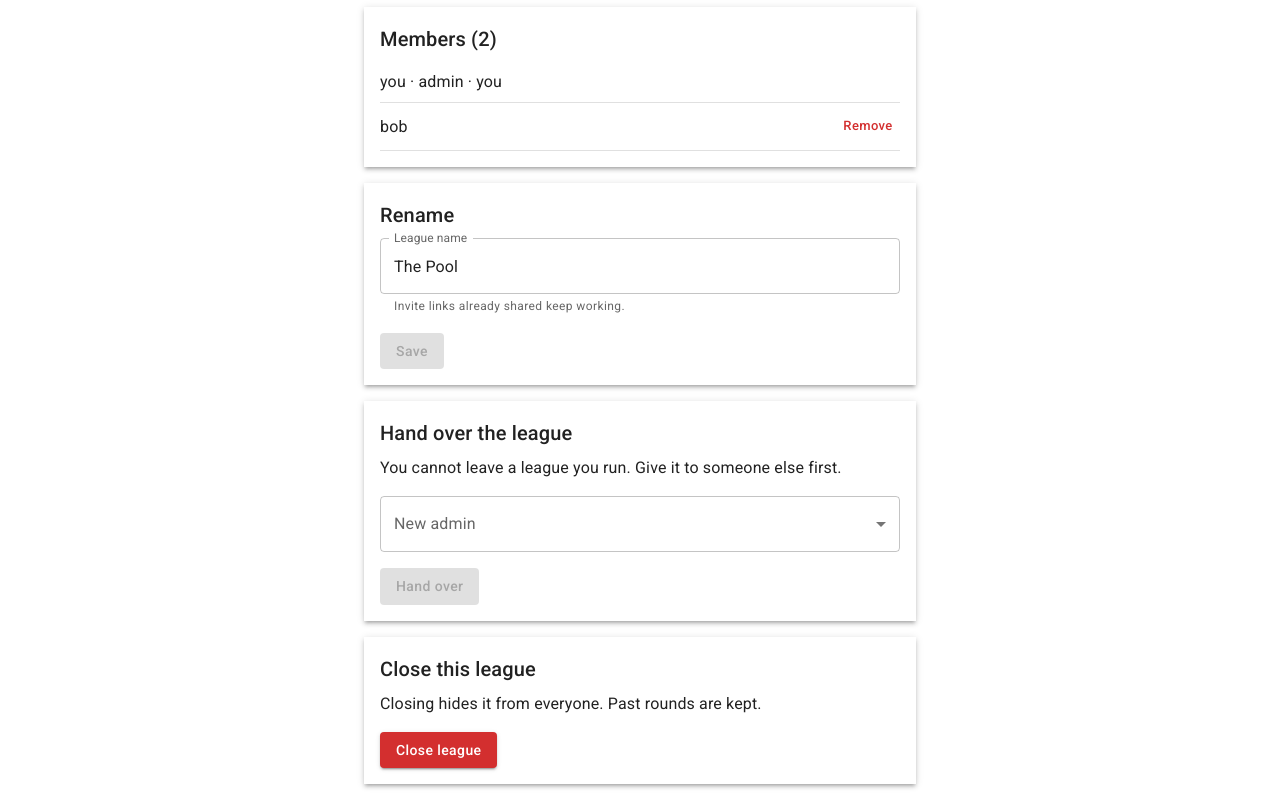
closing it › asks first, saying who it disappears for
(page scrolled)
Click the button "Close league".
click(439, 750)  # box [380,732,498,768]
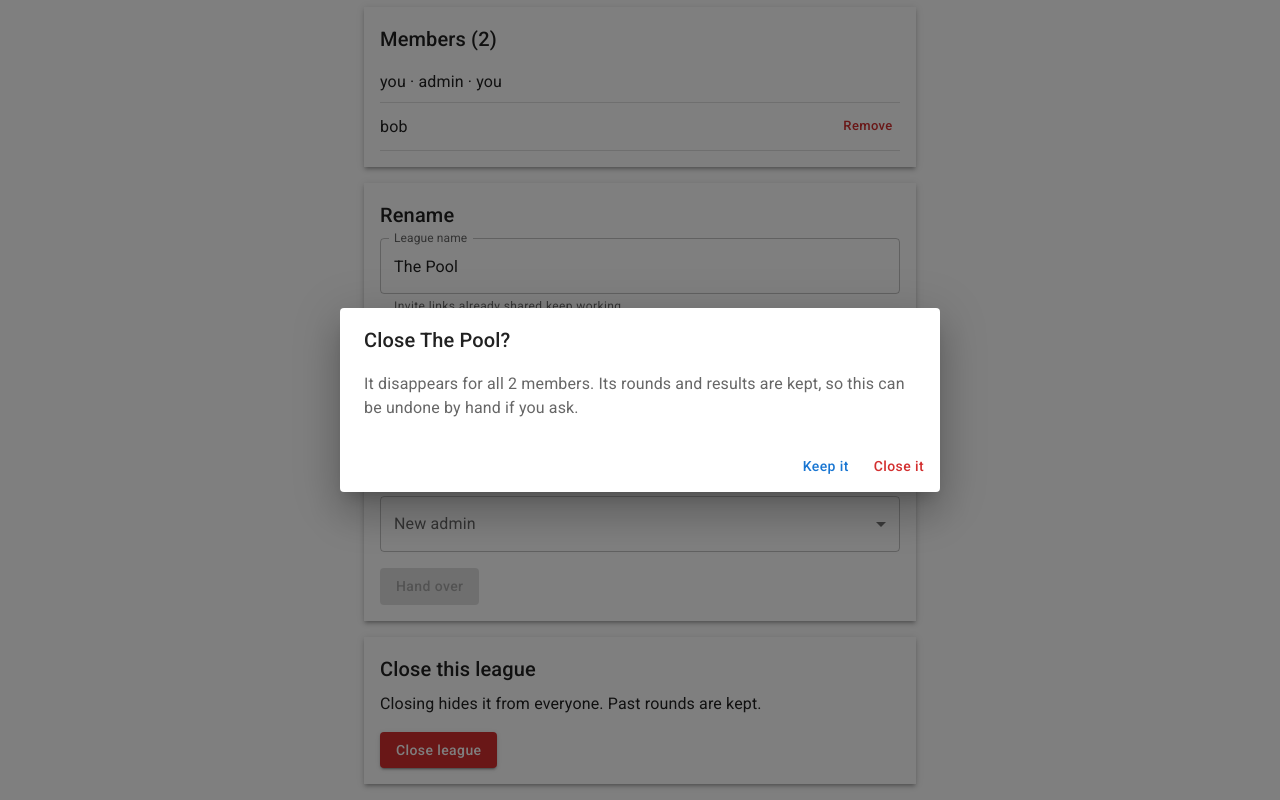
Expected: the heading "Close The Pool?" is shown, [364,328,510,352]
Expected: the text "It disappears for all 2 members" is shown, [364,372,916,420]
